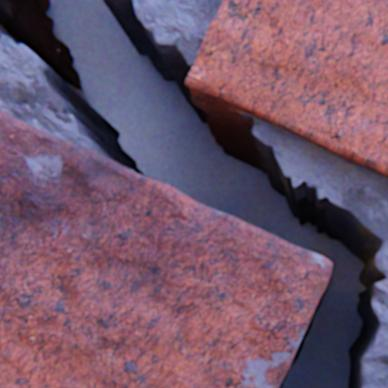brick: (0, 110, 332, 387), (185, 0, 387, 178)
crack: (0, 0, 386, 387)
